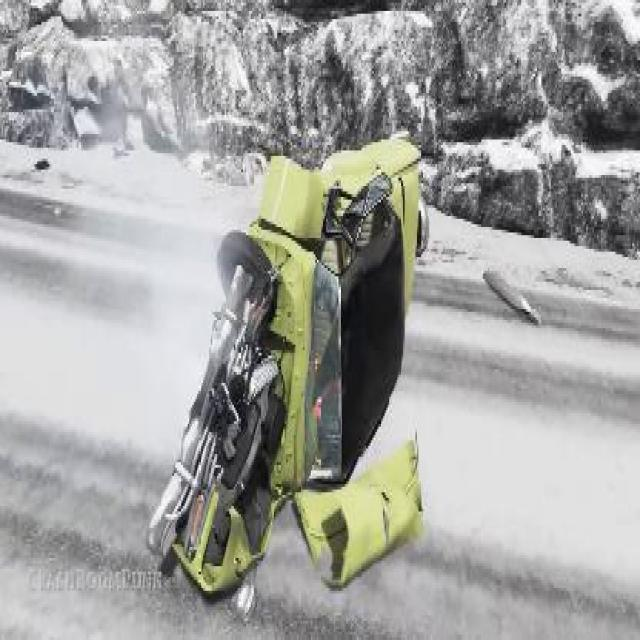accident: (140, 115, 434, 591)
